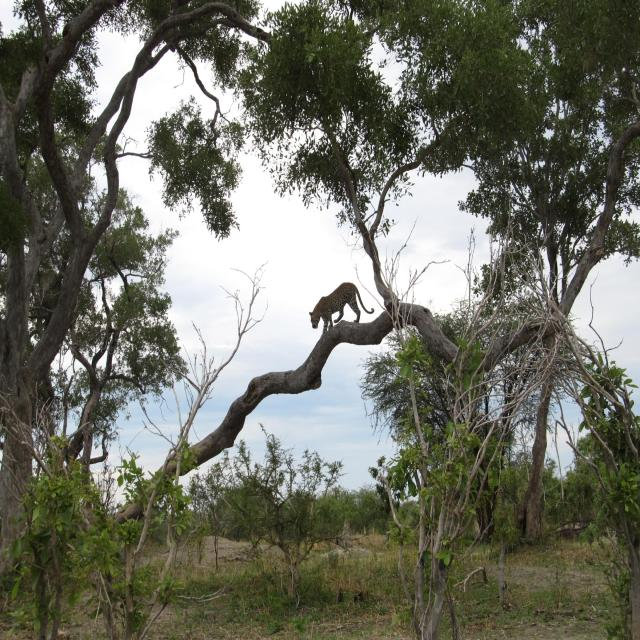Leopard: (308, 280, 376, 340)
